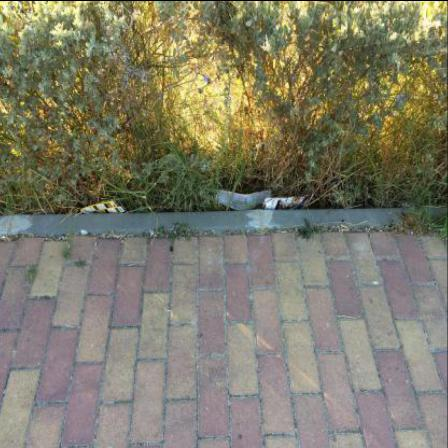Cigarette: (341, 224, 349, 229), (7, 237, 13, 242), (342, 229, 350, 232)
Paper: (217, 189, 273, 211), (263, 194, 315, 210), (75, 200, 130, 214)
